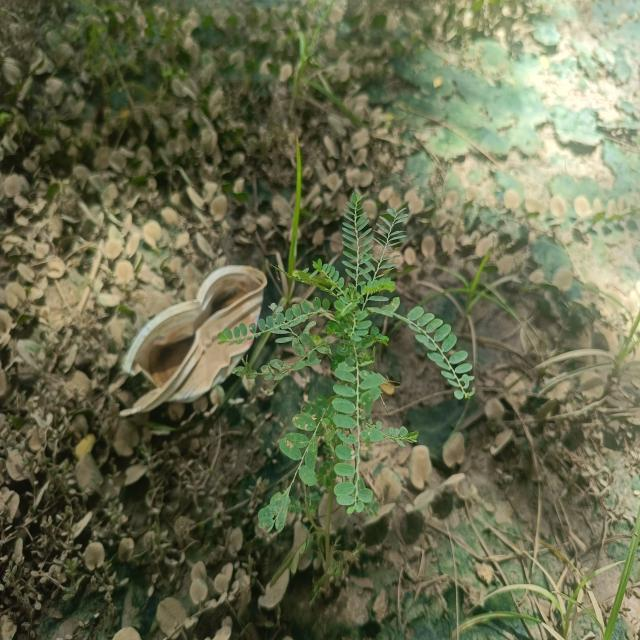weed: (193, 193, 489, 551)
